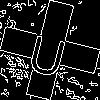U: (25, 25, 72, 79)
